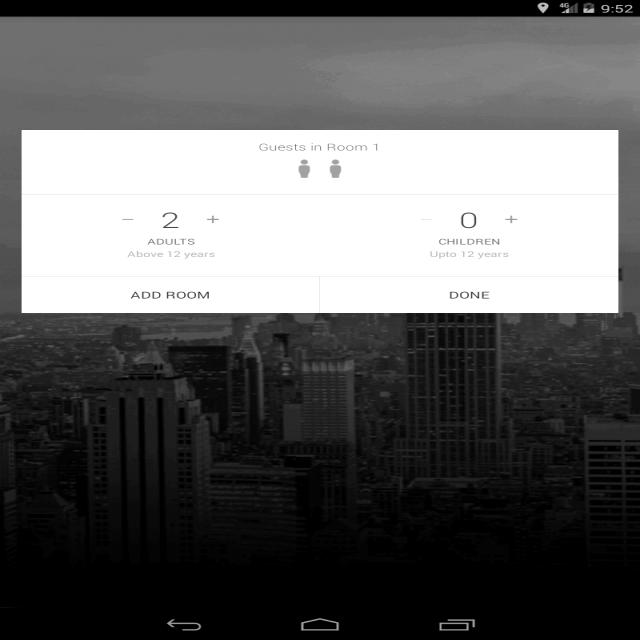ImageView: (286, 157, 351, 181)
TextView: (245, 137, 406, 155), (127, 285, 223, 306), (126, 239, 220, 259), (441, 285, 503, 302), (149, 209, 187, 231)
